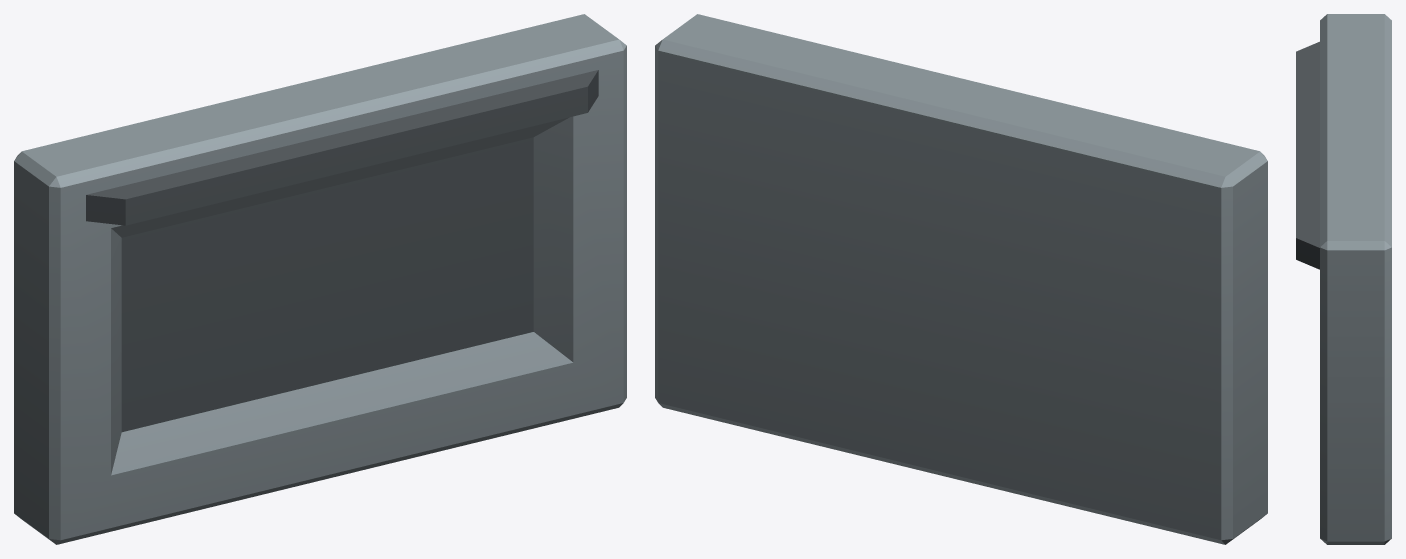
The model's file is pizza_oven_door.obj.
The picture shows the model from 3 angles, left to right: view 1: azimuth 30°, elevation 25°; view 2: azimuth 150°, elevation 25°; view 3: azimuth 270°, elevation 25°; orthographic projection. The views are drawn at different scales.
Parts seen in each view (by area): view 1: pizza_oven_door_Cube.429; view 2: pizza_oven_door_Cube.429; view 3: pizza_oven_door_Cube.429.
Boxes of the visible parts, left/top/right/bottom form: pizza_oven_door_Cube.429: left=14, top=14, right=626, bottom=544; pizza_oven_door_Cube.429: left=655, top=14, right=1267, bottom=544; pizza_oven_door_Cube.429: left=1296, top=14, right=1391, bottom=544.
Bounding box in the file's own units: 2.3 × 1.4 × 0.4.
Materials: 1 (1 with a texture image).
